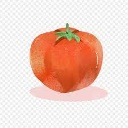tomato: (30, 27, 104, 93)
